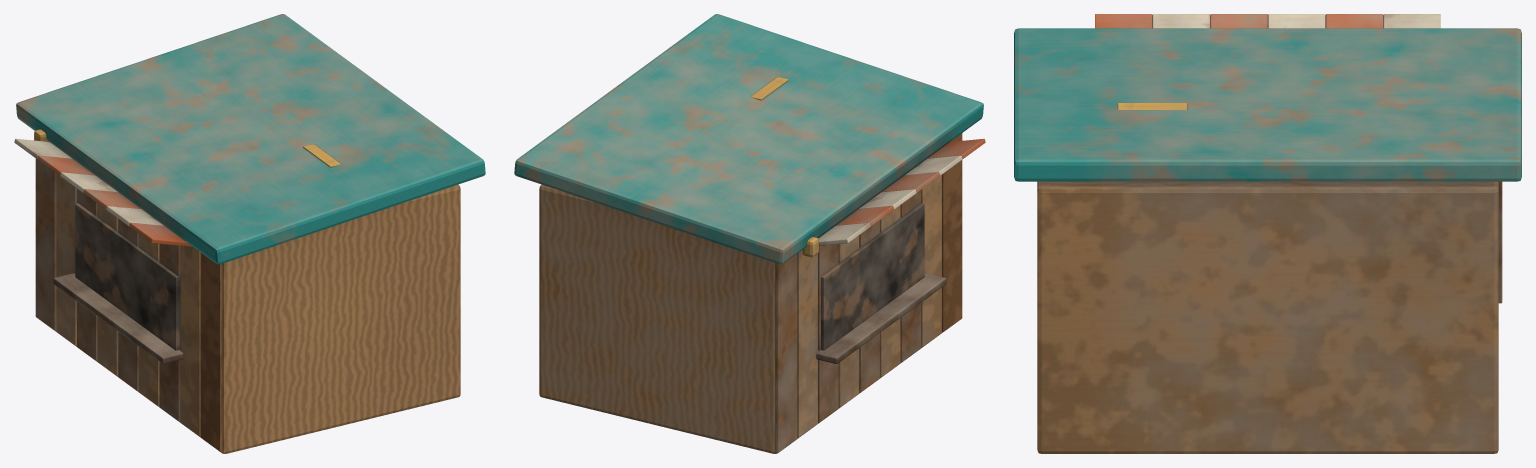
Rendered from sales_kiosk.glb.
3 renders of one model, left to right at view 1: azimuth 30°, elevation 25°; view 2: azimuth 150°, elevation 25°; view 3: azimuth 270°, elevation 25°, orthographic. The views are drawn at different scales.
Parts seen in each view (by area): view 1: SalesKiosk_Mesh; view 2: SalesKiosk_Mesh; view 3: SalesKiosk_Mesh.
Boxes of the visible parts, x1=… form: SalesKiosk_Mesh: x1=14, y1=14, x2=485, y2=453; SalesKiosk_Mesh: x1=514, y1=14, x2=985, y2=453; SalesKiosk_Mesh: x1=1014, y1=14, x2=1521, y2=453.
Bounding box in the file's own units: 3.81 × 2.89 × 4.4.
Materials: 1 (1 with a texture image).
